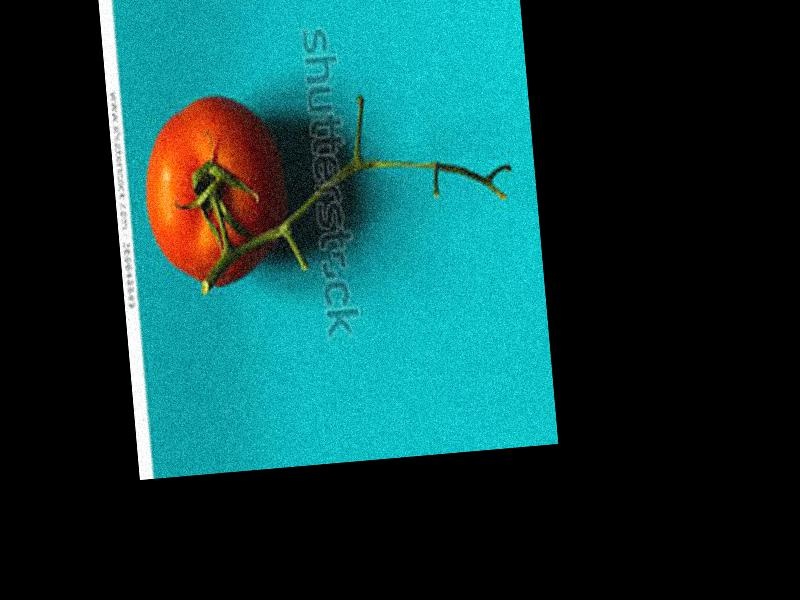Tomato: (140, 92, 290, 293)
